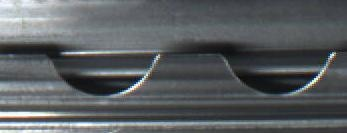twou: (47, 44, 307, 103)
